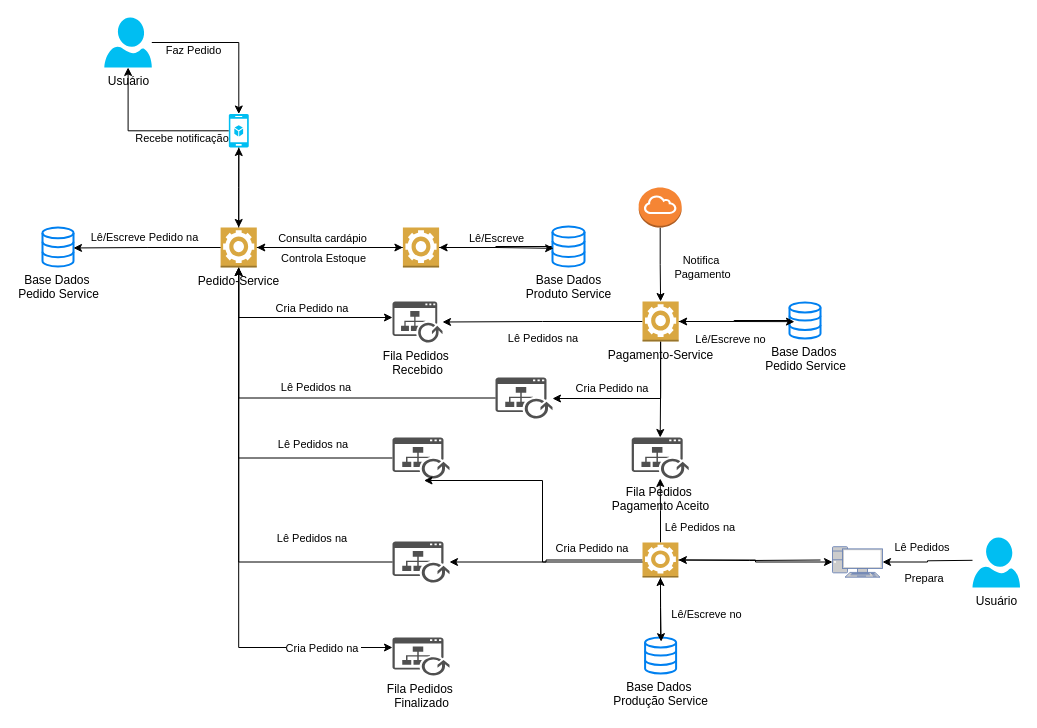
The diagram is 1037 pixels wide and 728 high, and some of its shapes have lost their labels. Each missing label, with the centre of its shape:
Fila Pedidos Em preparação: the point at 420,457
Fila Pedidos Pagamento Recusado: the point at 523,397
Fila Pedidos Pronto: the point at 420,561
Mercado Pag o: the point at 660,207
Produto-Service: the point at 420,247
Produção-Service: the point at 660,560
